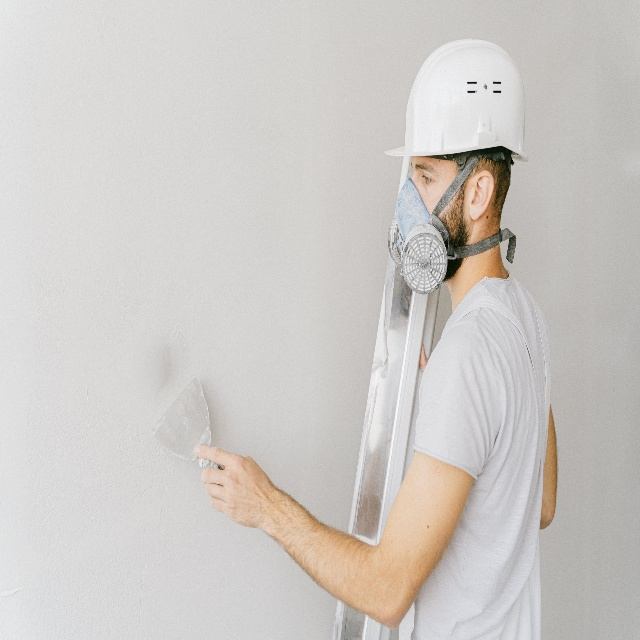Sin_guantes: (194, 441, 270, 531)
